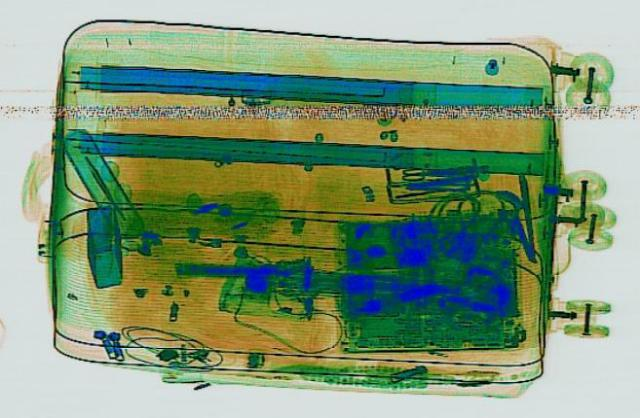Scissors: (398, 163, 457, 179)
